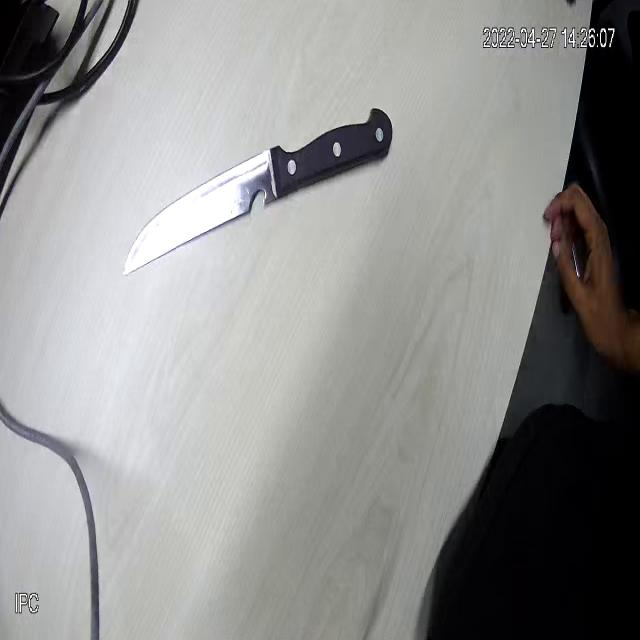knife: (125, 115, 352, 292)
